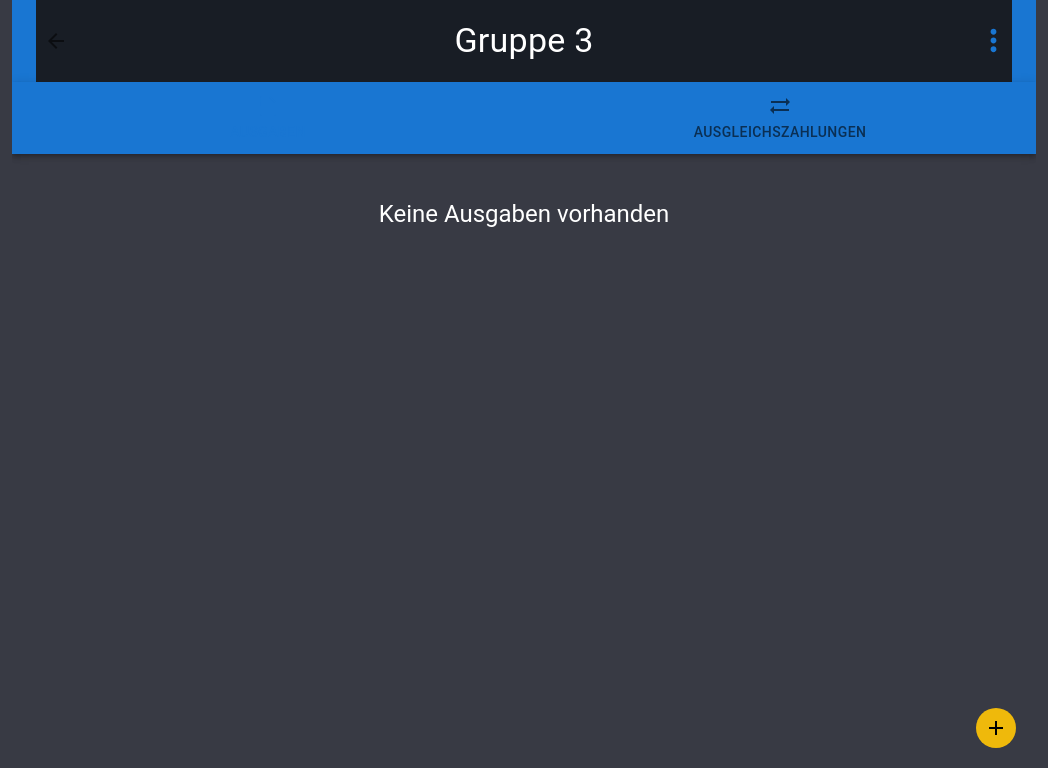
Test: GroupScreen Component › click on tabs
expect the heading "Keine Ausgaben vorhanden" is shown: met, box [379,200,669,228]
Click the tab "Ausgleichszahlungen".
click(780, 118)  # box [524,82,1036,154]
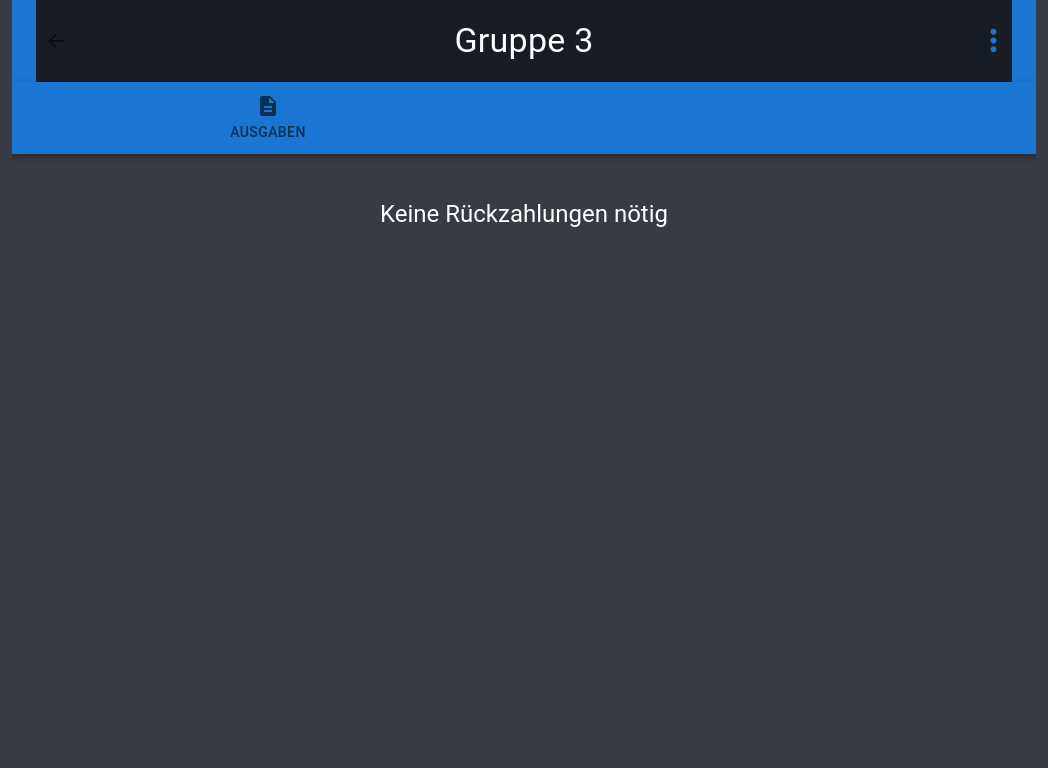
expect the heading "Keine Rückzahlungen nötig" is shown: met, box [380,200,668,228]
Click the tab "Ausgaben".
click(268, 118)  # box [12,82,524,154]
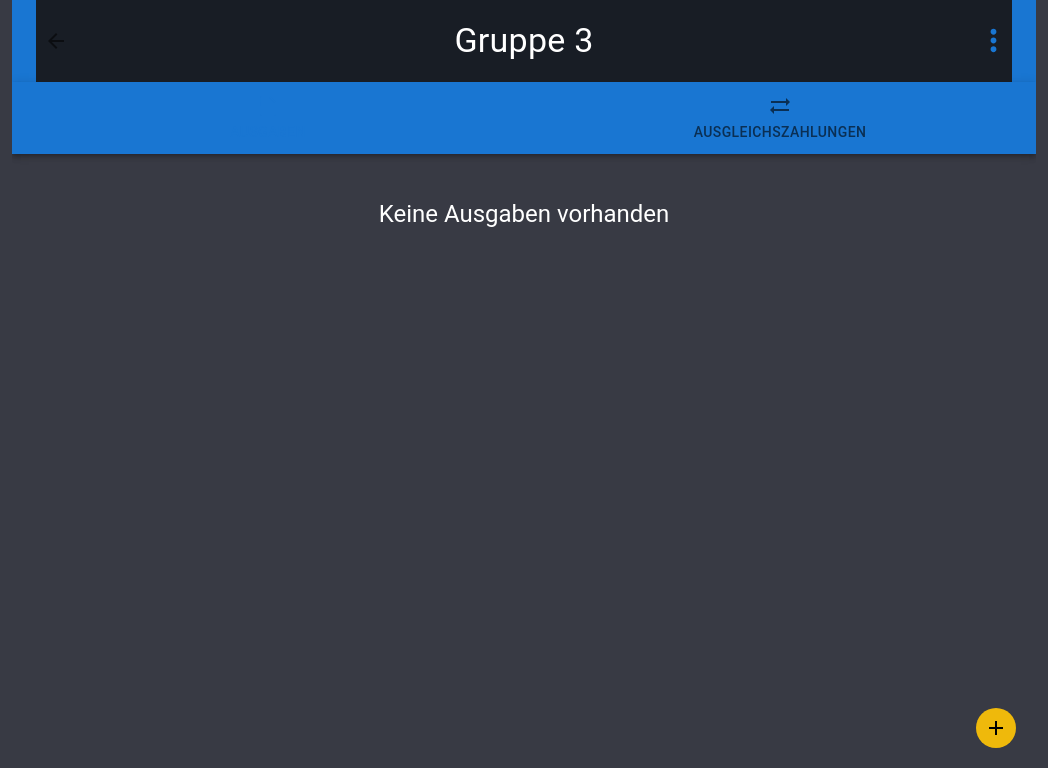
expect the heading "Keine Ausgaben vorhanden" is shown: met, box [379,200,669,228]
